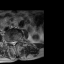CCS_normal: (13, 39, 14, 49)
LFS_normal: (16, 38, 18, 44)
LLS_normal: (14, 39, 16, 45)
RFS_stenosis: (9, 39, 11, 45)
RLS_normal: (11, 39, 13, 46)
